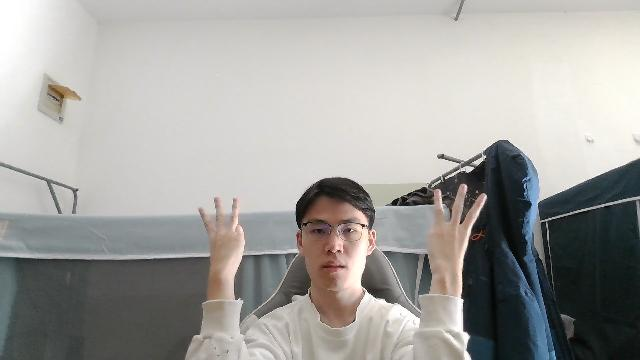three: (424, 178, 487, 281), (198, 193, 246, 275)
